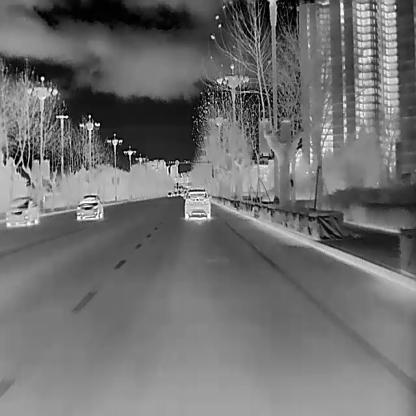car: (4, 193, 39, 227), (182, 187, 210, 218), (75, 192, 103, 221), (167, 192, 172, 196)
